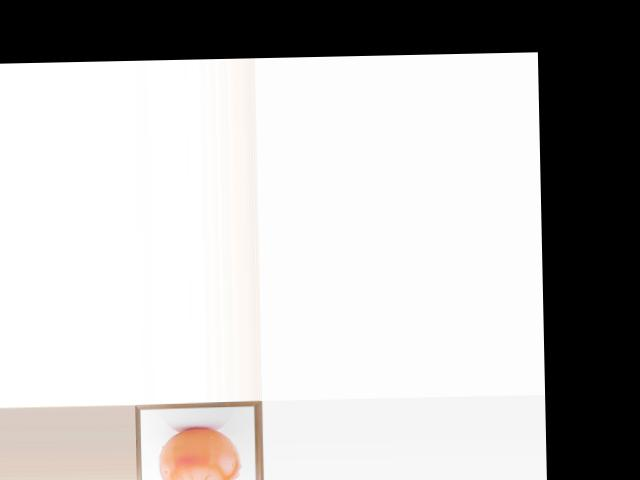tomato: (158, 426, 241, 480)
